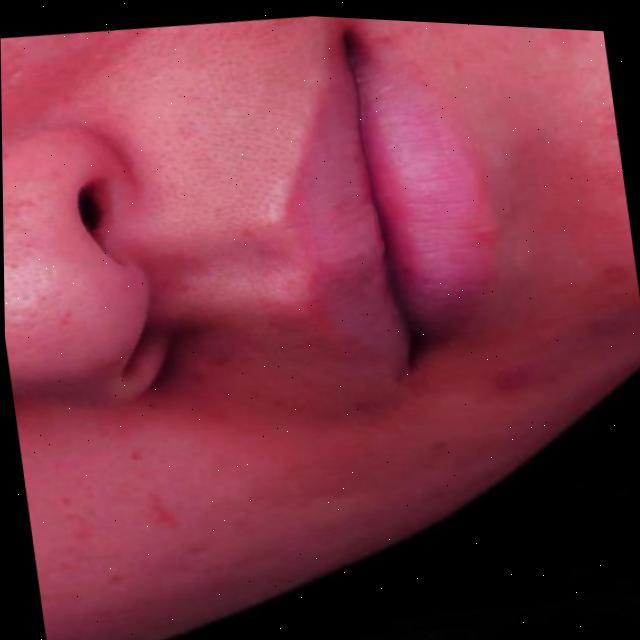Acne: (118, 322, 576, 588)
